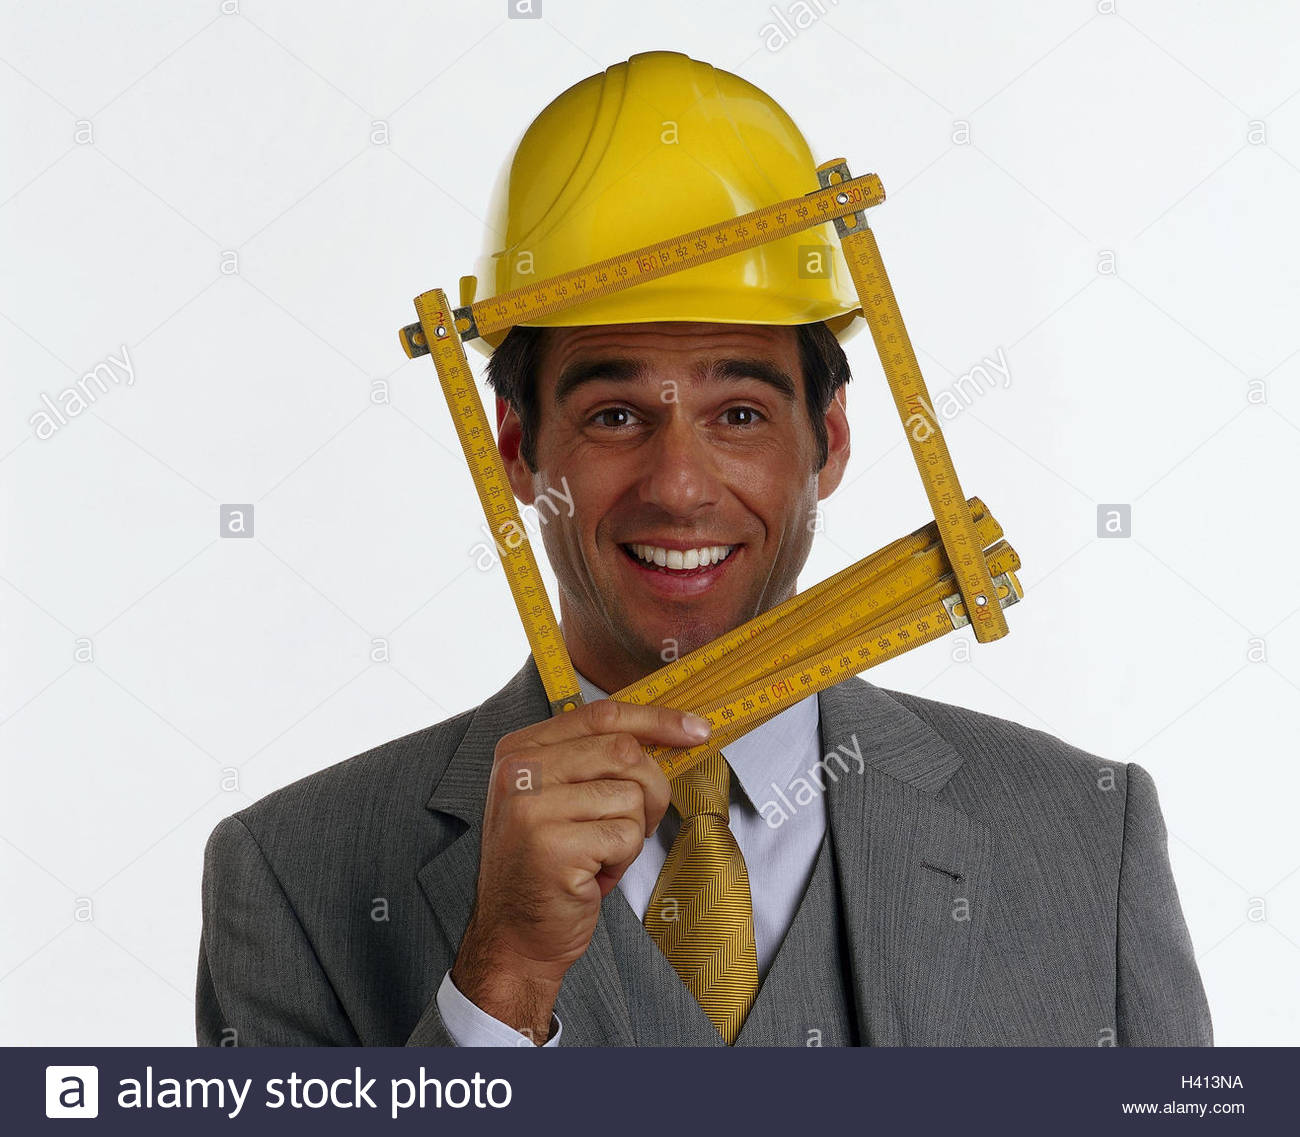casco: (457, 46, 867, 360)
